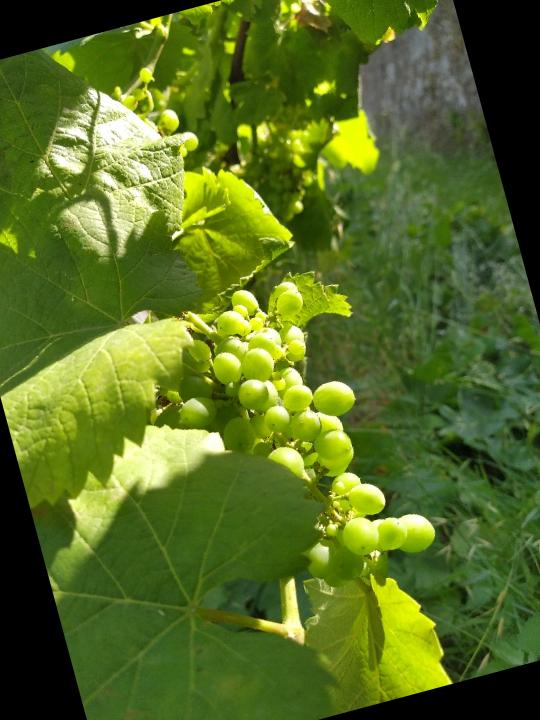grape: (121, 252, 448, 623)
